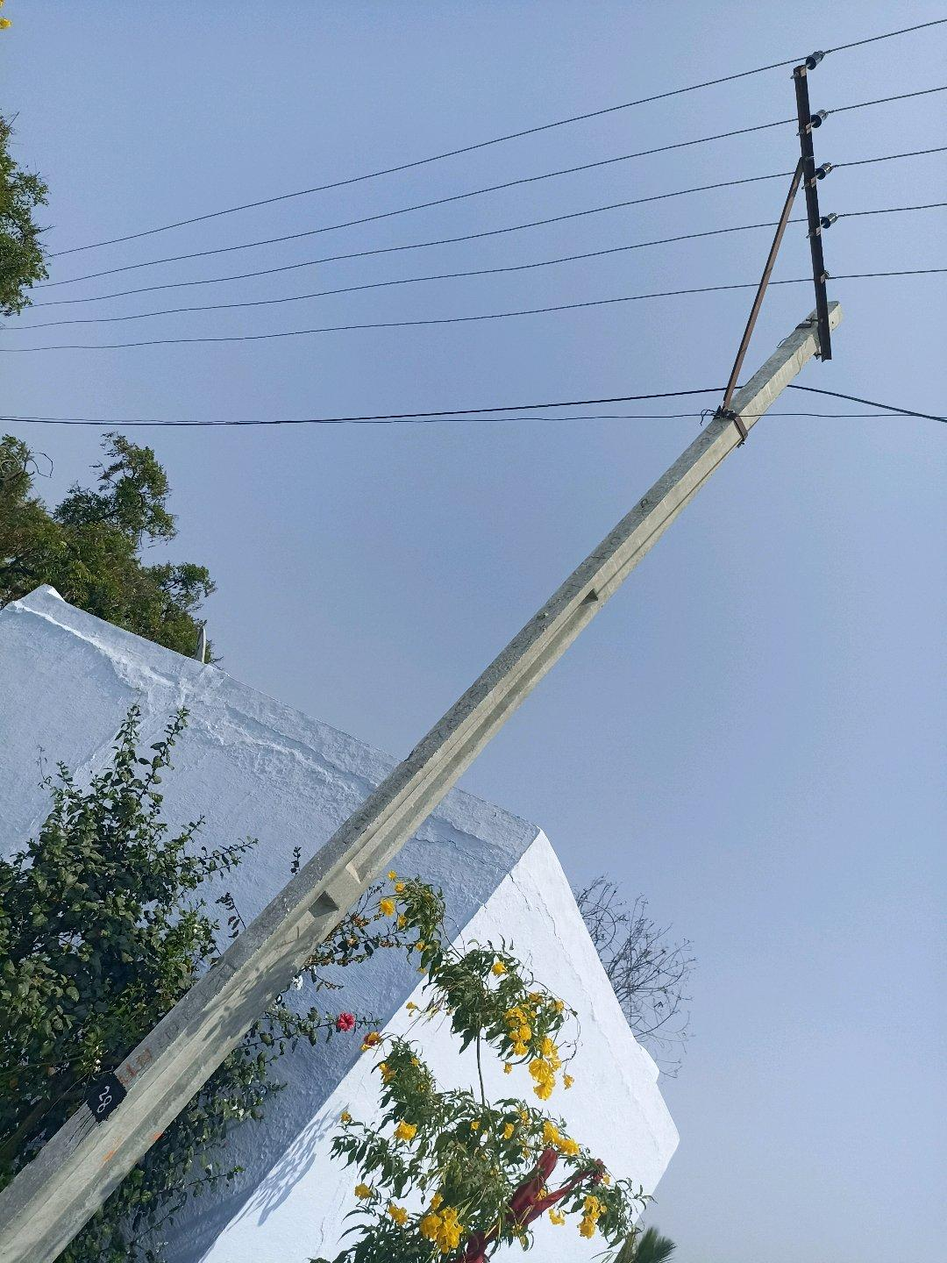{"0" "insulator", "1" "pole", "2" "crossarm", "3" "conductor", "4" "street_: (0, 53, 838, 1262), (735, 364, 739, 374)
